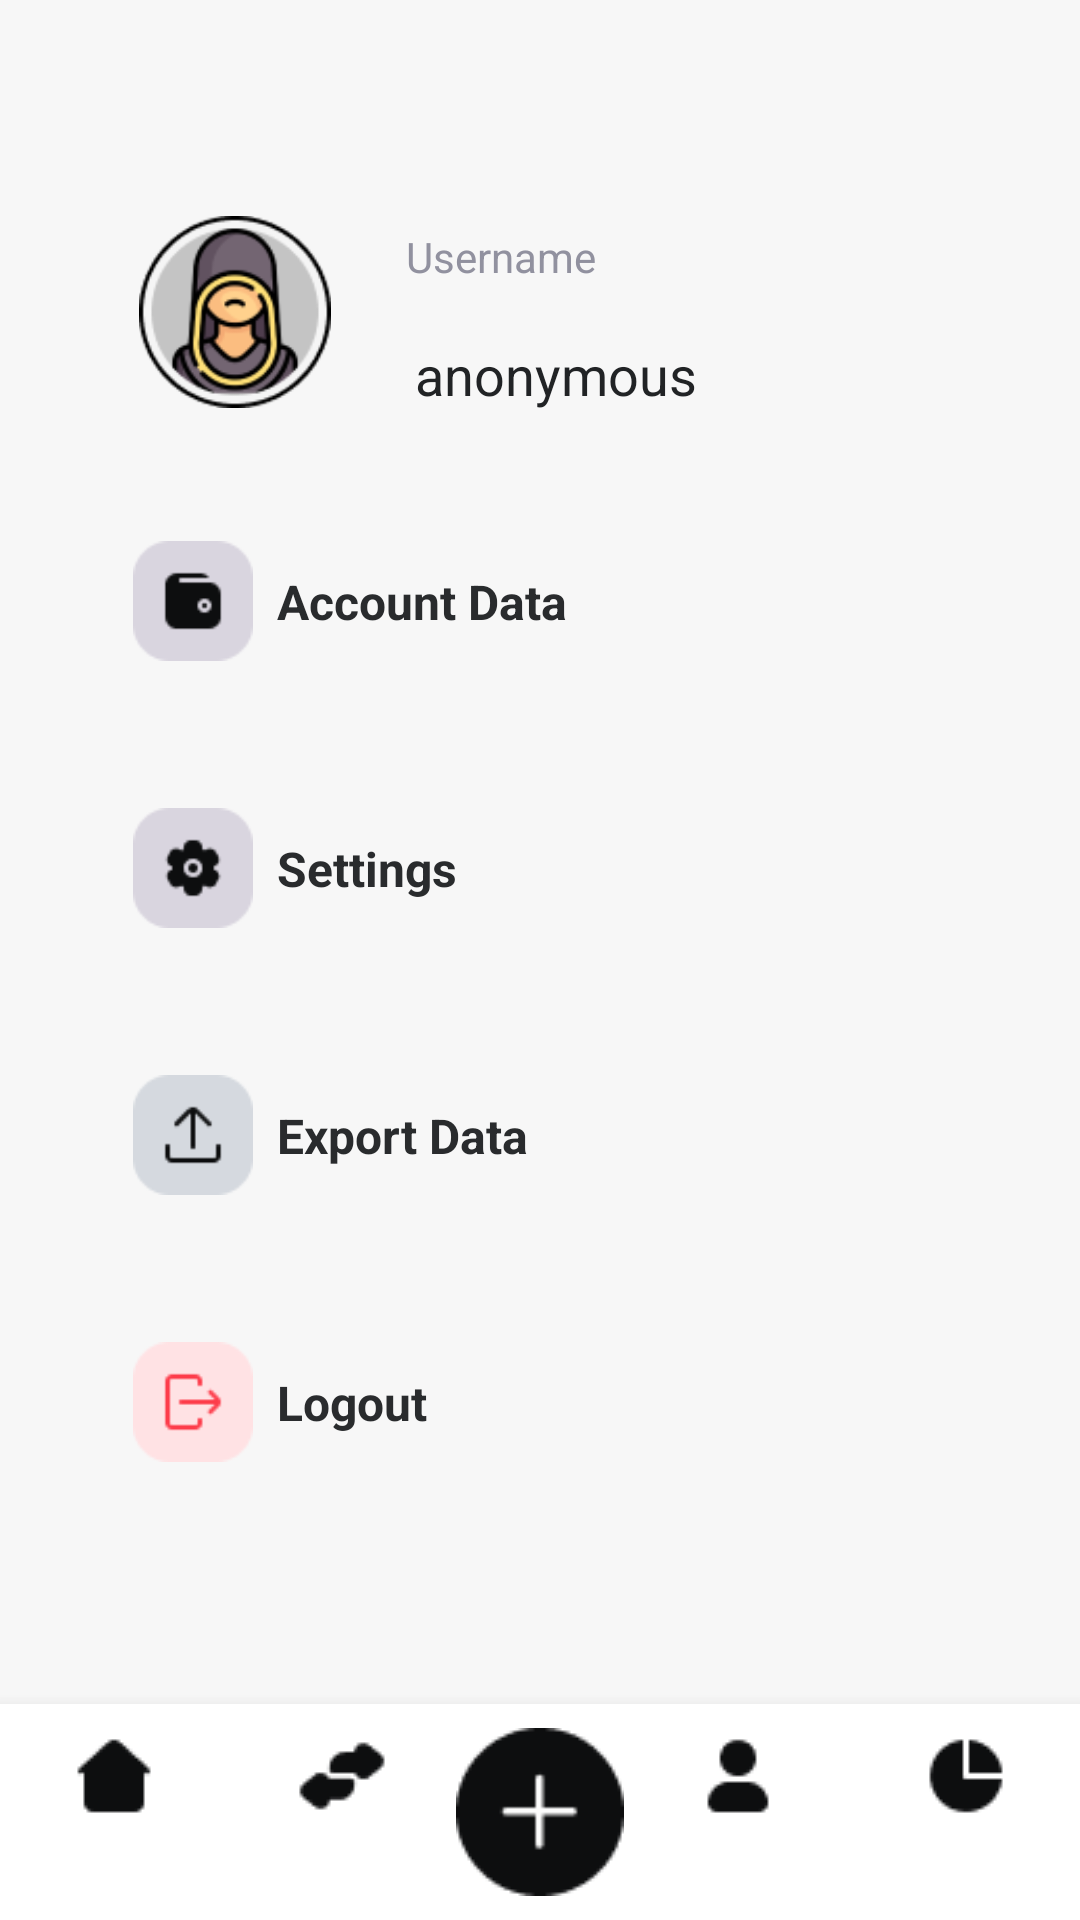

Icon bounding boxes for this 1080px x 1920px phone screenshot, format (left=x1, top=y1, right=x2, bottom=y2):
Budget: (left=929, top=1739, right=1003, bottom=1813)
Create Expense: (left=456, top=1728, right=624, bottom=1896)
Home: (left=77, top=1739, right=151, bottom=1813)
profilepicture: (left=139, top=216, right=331, bottom=408)
Transactions: (left=299, top=1742, right=385, bottom=1810)
